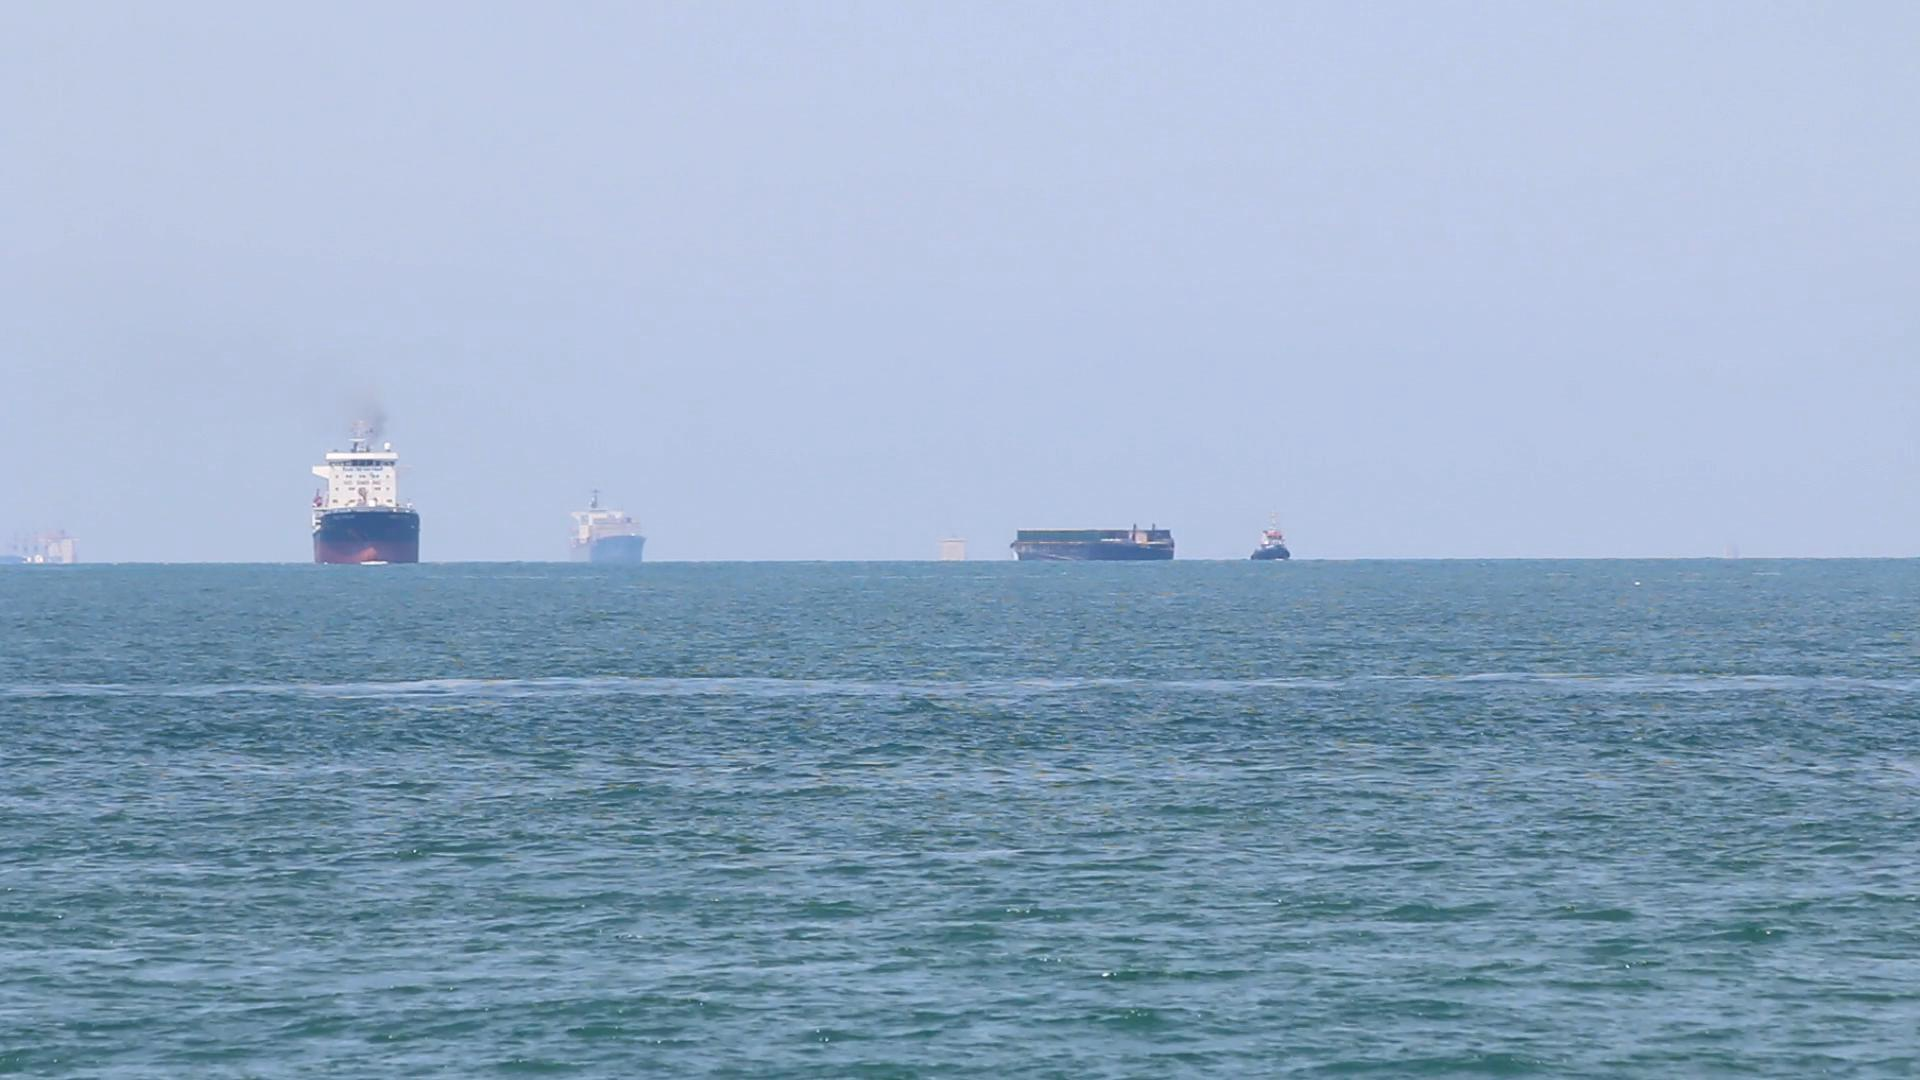Container Ship: (305, 414, 430, 574), (559, 479, 653, 571), (1005, 520, 1182, 567), (1244, 513, 1302, 567)
